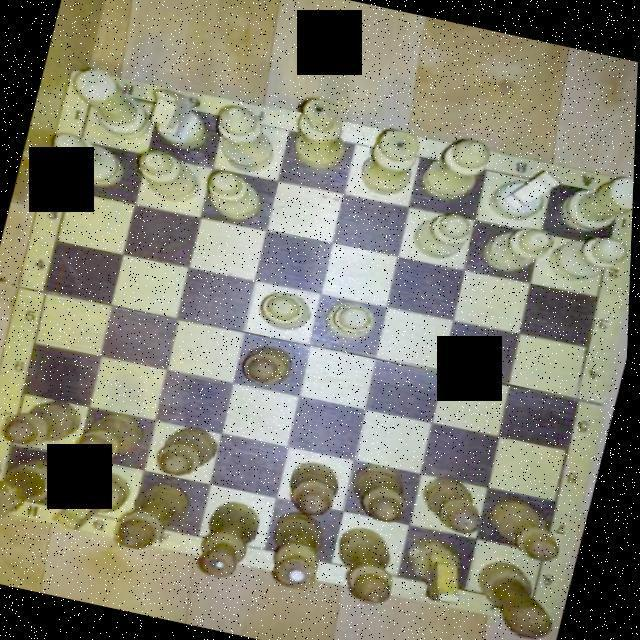chess-table-corners: (64, 66, 132, 120), (502, 574, 566, 626), (584, 170, 636, 222), (0, 463, 44, 518)
